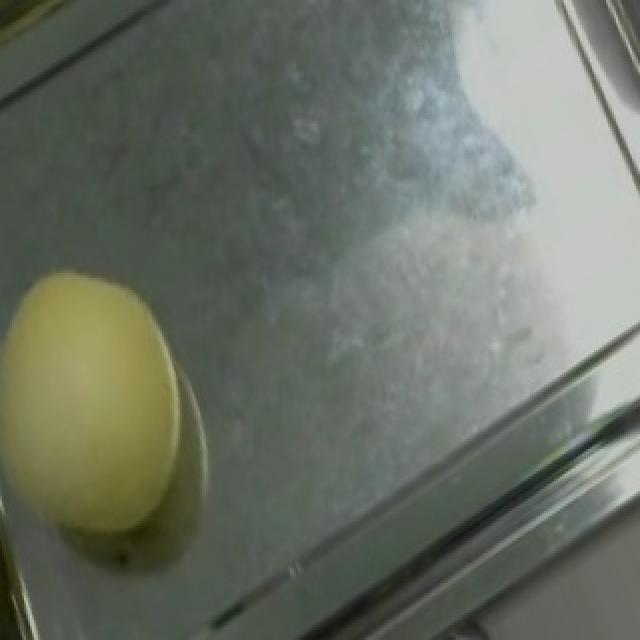Fruit: (0, 236, 260, 588)
